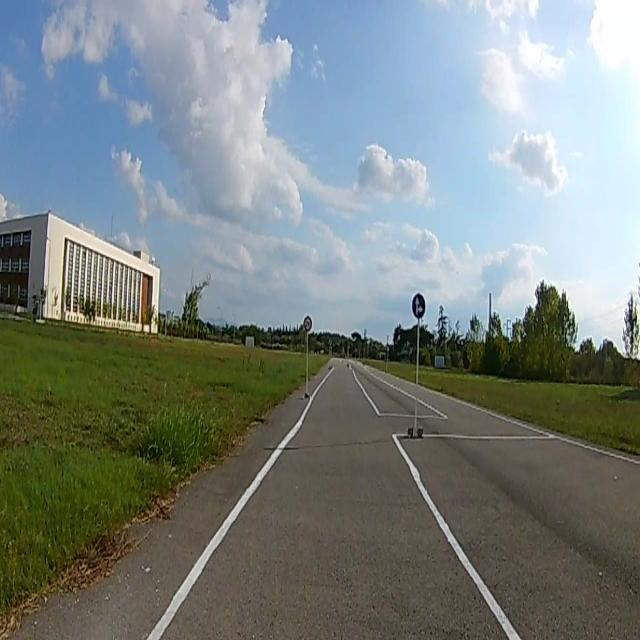ilerisag: (412, 293, 426, 319)
